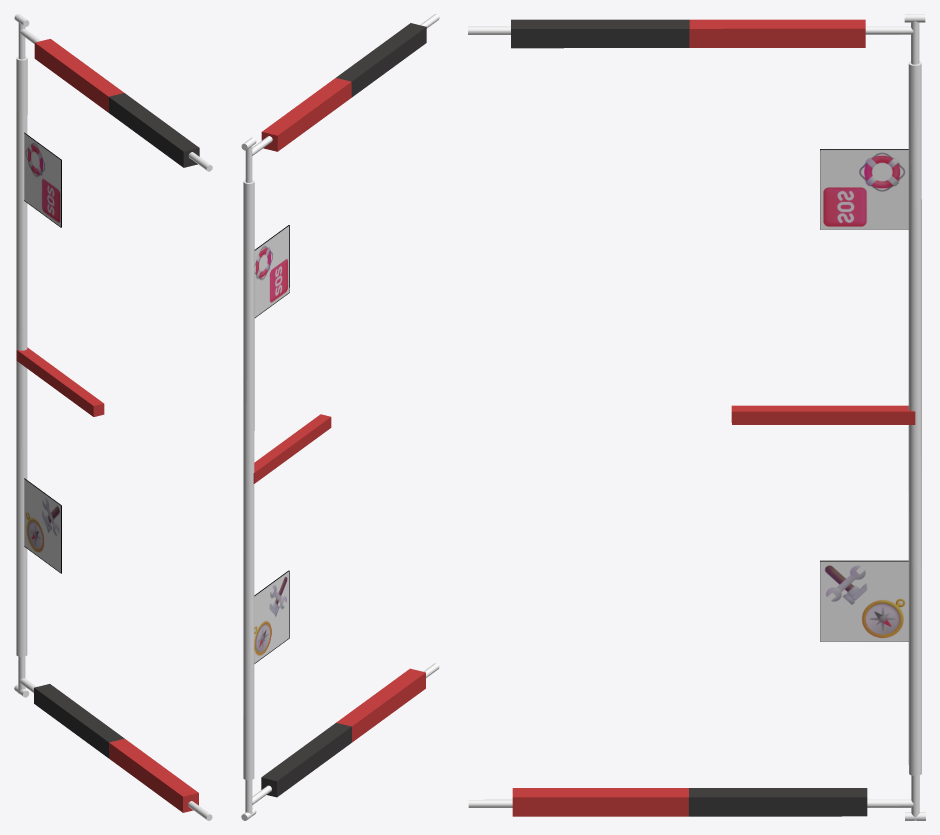
File: gate.obj
3 views of the same model, side by side, from view 1: azimuth 30°, elevation 25°; view 2: azimuth 150°, elevation 25°; view 3: azimuth 270°, elevation 25° (orthographic). The views are drawn at different scales.
Parts seen in each view (by area): view 1: gate; view 2: gate; view 3: gate.
Part boxes in pixels (x1=…): gate: x1=14, y1=14, x2=212, y2=820; gate: x1=241, y1=14, x2=439, y2=820; gate: x1=468, y1=14, x2=925, y2=820.
Bounding box in the file's own units: 0.0762 × 3.11 × 1.6.
Materials: 1 (1 with a texture image).
